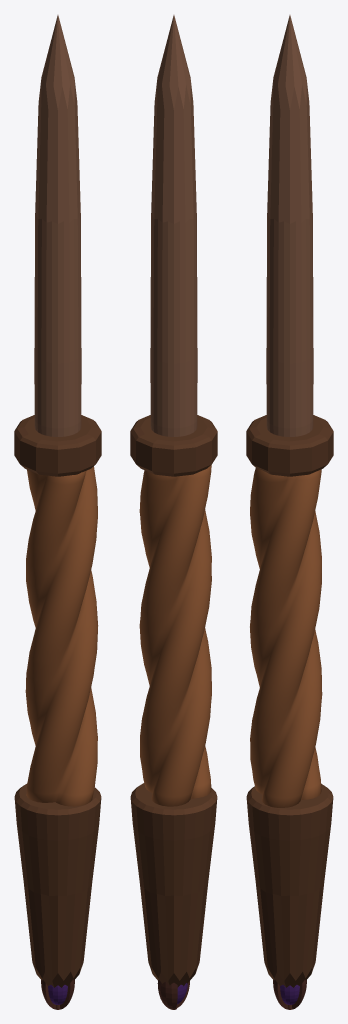
The model's file is Wand 807.glb.
3 renders of one model, left to right at view 1: azimuth 90°, elevation 25°; view 2: azimuth 150°, elevation 25°; view 3: azimuth 270°, elevation 25°, orthographic.
Visible parts, largest first — view 1: GeneratedWand; view 2: GeneratedWand; view 3: GeneratedWand.
Part boxes in pixels (x1,y1,x2,y2): GeneratedWand: [14, 15, 101, 1009]; GeneratedWand: [130, 15, 217, 1009]; GeneratedWand: [246, 15, 333, 1009].
Bounding box in the file's own units: 0.0398 × 0.4983 × 0.0398.
